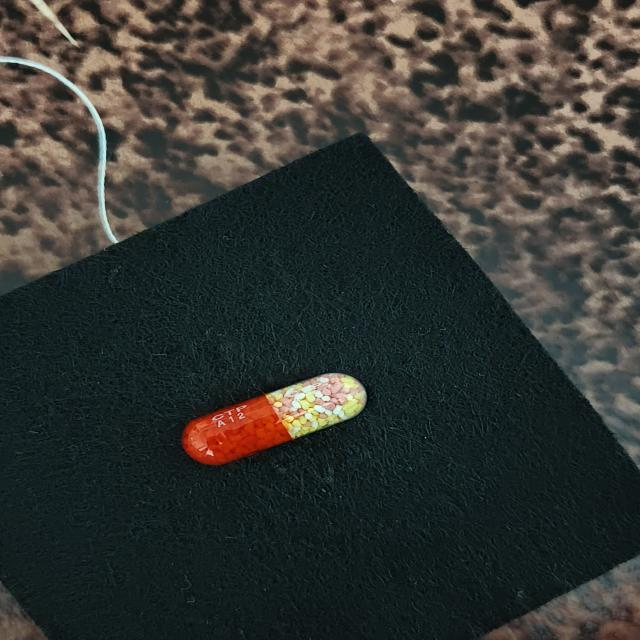Intact Capsule: (182, 373, 367, 465)
